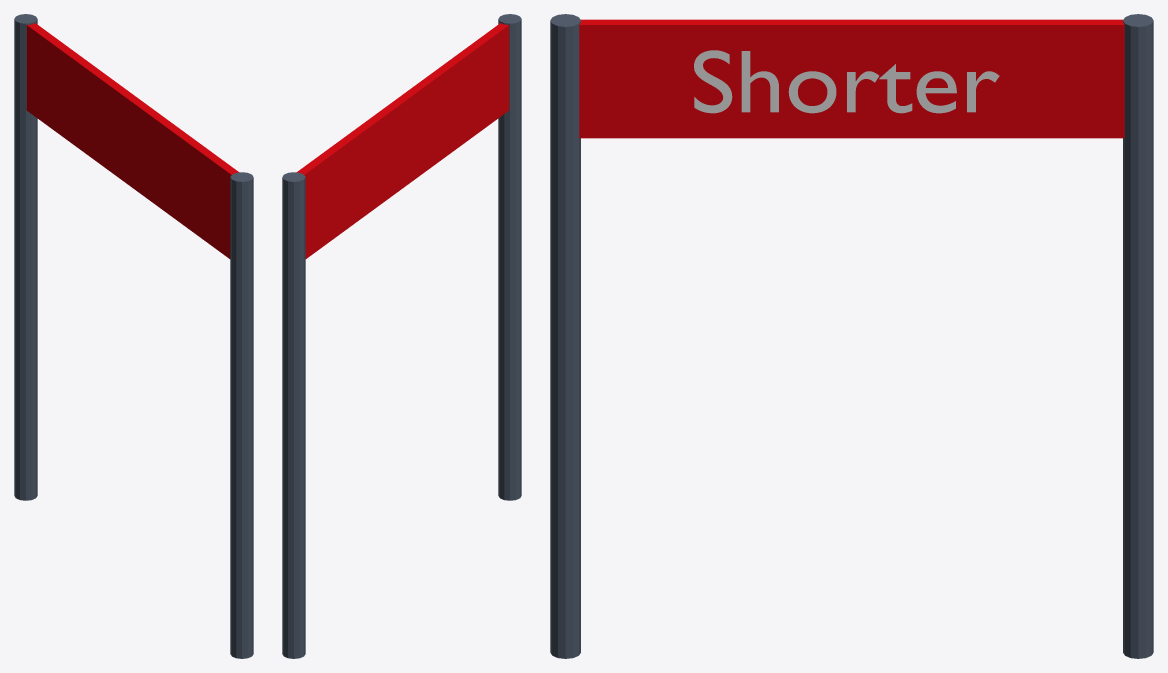
File: shorter.fbx
3 views of the same model, side by side, from view 1: azimuth 30°, elevation 25°; view 2: azimuth 150°, elevation 25°; view 3: azimuth 270°, elevation 25° (orthographic). The views are drawn at different scales.
Parts seen in each view (by area): view 1: Cube.001, Cylinder.002, Cylinder.003; view 2: Cube.001, Cylinder.003, Cylinder.002; view 3: Cube.001, Cylinder.002, Cylinder.003, Text.001.
Boxes of the visible parts, left/top/right/bottom form: Cube.001: left=26, top=23, right=239, bottom=258; Cylinder.002: left=230, top=172, right=253, bottom=658; Cylinder.003: left=14, top=14, right=37, bottom=500; Cube.001: left=296, top=23, right=509, bottom=258; Cylinder.003: left=282, top=172, right=305, bottom=658; Cylinder.002: left=498, top=14, right=521, bottom=500; Cube.001: left=579, top=19, right=1124, bottom=138; Cylinder.002: left=550, top=14, right=580, bottom=658; Cylinder.003: left=1123, top=14, right=1153, bottom=658; Text.001: left=694, top=50, right=999, bottom=113.
Size of the model in its own units: 18.47 by 418 by 362.
